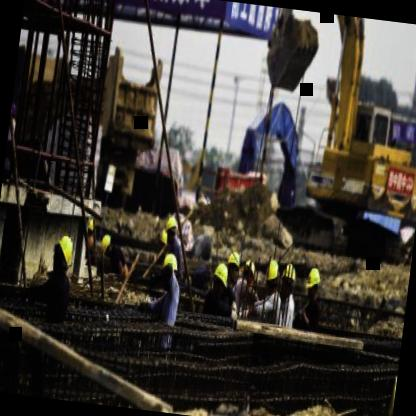helmet: (50, 227, 78, 276), (278, 256, 300, 298), (302, 264, 324, 303), (210, 260, 230, 298), (239, 255, 259, 292), (263, 258, 283, 294), (159, 251, 180, 285), (226, 247, 244, 282), (162, 214, 179, 246), (101, 231, 116, 257)
